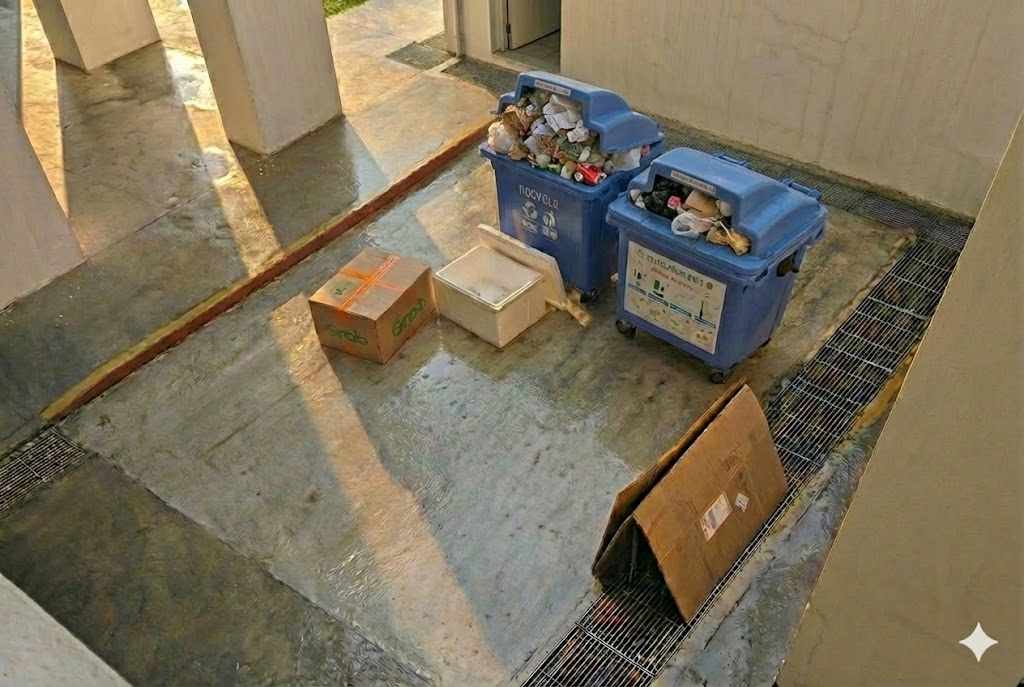bin_full: (606, 148, 827, 380), (478, 71, 664, 291)
bulk_waste: (592, 382, 787, 622), (308, 249, 435, 363), (434, 245, 547, 348), (477, 224, 589, 325)
